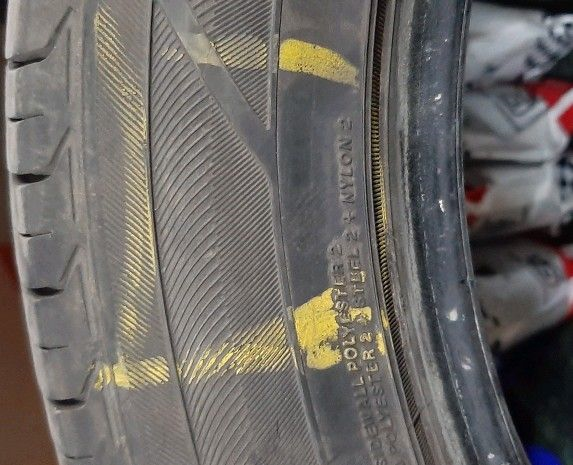CBU: (173, 101, 311, 290)
